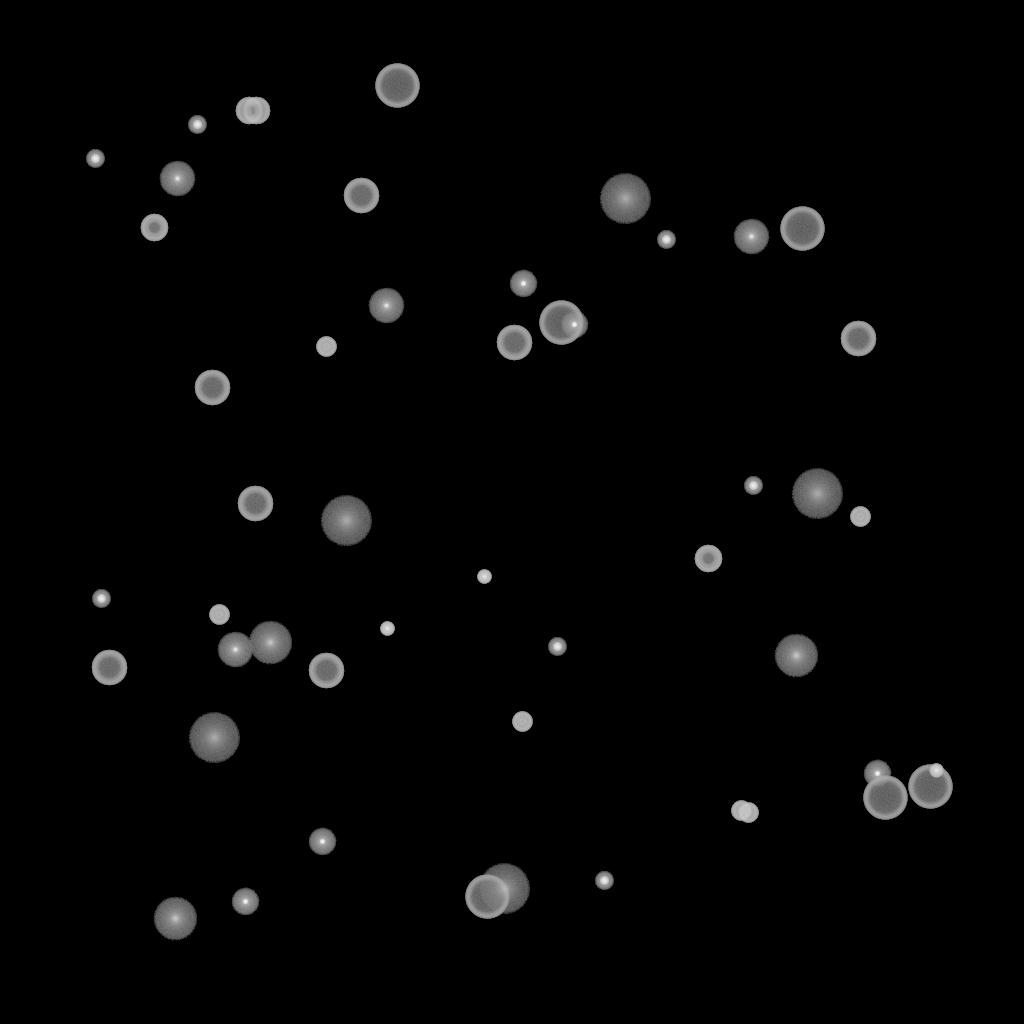depth:-10: (509, 270, 537, 298), (863, 760, 891, 788), (308, 828, 336, 856), (231, 888, 259, 916), (560, 311, 588, 339)
depth:-20: (657, 231, 675, 249), (548, 638, 566, 656), (86, 150, 104, 168), (744, 477, 762, 495), (92, 590, 110, 608), (188, 116, 206, 134), (595, 872, 613, 890)
depth:-30: (380, 622, 394, 636), (477, 570, 491, 584), (929, 764, 943, 778)
depth:-40: (738, 803, 758, 823), (316, 337, 336, 357), (850, 507, 870, 527), (731, 801, 751, 821), (209, 605, 229, 625), (512, 712, 532, 732)
depth:-50: (694, 545, 722, 573), (242, 97, 270, 125), (235, 97, 263, 125), (140, 214, 168, 242)
depth:-60: (91, 650, 127, 686), (343, 178, 379, 214), (237, 486, 273, 522), (840, 321, 876, 357), (194, 370, 230, 406), (496, 325, 532, 361), (308, 653, 344, 689)
depth:-70: (908, 765, 952, 809), (465, 875, 509, 919), (780, 207, 824, 251), (863, 776, 907, 820), (375, 64, 419, 108), (539, 301, 583, 345)
depth:0: (733, 219, 769, 255), (368, 288, 404, 324), (159, 161, 195, 197), (217, 632, 253, 668)
depth:10: (153, 897, 197, 941), (248, 621, 292, 665), (774, 634, 818, 678)
depth:20: (188, 713, 240, 763), (791, 469, 843, 519), (599, 174, 651, 224), (478, 864, 530, 914), (320, 496, 372, 546)
